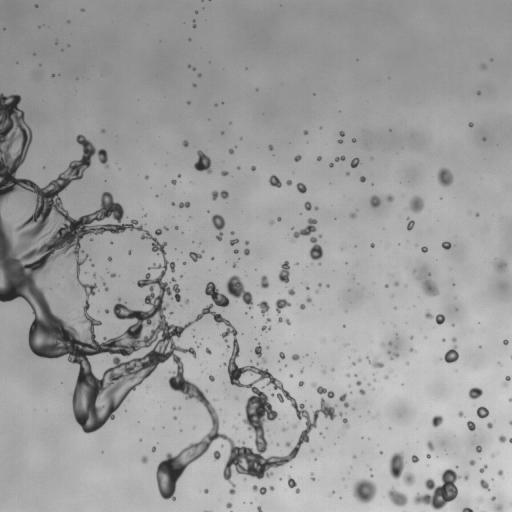droplet: (413, 469, 468, 510), (389, 452, 415, 485), (353, 479, 377, 503), (194, 150, 211, 173), (387, 487, 407, 506), (437, 168, 453, 186), (422, 279, 438, 296), (443, 345, 458, 363), (278, 261, 289, 283), (275, 299, 290, 314), (409, 196, 423, 212), (468, 387, 482, 399), (212, 190, 228, 200), (494, 259, 507, 271), (476, 406, 489, 418), (258, 301, 269, 315), (269, 175, 281, 187), (431, 415, 443, 427), (339, 393, 348, 407), (370, 195, 380, 207), (189, 252, 202, 261), (296, 182, 306, 193), (260, 275, 268, 288), (254, 344, 262, 357), (480, 479, 489, 490), (407, 218, 414, 230), (350, 158, 359, 167), (467, 421, 475, 431), (442, 241, 451, 249), (213, 450, 220, 460), (304, 201, 311, 210), (427, 441, 434, 450), (179, 202, 190, 207), (499, 435, 506, 442), (411, 455, 418, 462), (495, 504, 502, 511), (230, 239, 238, 245), (261, 325, 269, 331), (294, 155, 301, 161), (155, 229, 162, 235), (288, 288, 294, 295), (292, 354, 299, 360), (141, 456, 147, 463), (182, 140, 188, 146), (387, 195, 393, 201), (421, 246, 427, 252), (205, 348, 211, 354), (279, 352, 285, 358), (244, 248, 249, 255), (391, 353, 398, 358), (476, 445, 481, 452), (360, 176, 365, 182), (209, 375, 214, 381), (298, 381, 304, 386), (359, 389, 365, 394), (458, 411, 463, 417), (487, 422, 492, 428), (469, 460, 475, 465), (226, 502, 231, 508), (339, 131, 344, 136), (268, 145, 273, 150), (228, 149, 233, 154), (286, 180, 291, 185), (306, 297, 311, 302), (300, 304, 305, 309), (356, 380, 361, 385), (498, 470, 503, 475), (257, 506, 262, 511), (221, 171, 227, 175), (481, 64, 485, 69), (469, 122, 473, 127), (171, 180, 176, 184), (350, 213, 355, 217), (110, 273, 115, 277), (452, 337, 456, 342), (503, 340, 508, 344), (262, 358, 266, 363), (285, 442, 290, 446), (304, 130, 308, 134), (338, 139, 342, 143), (317, 156, 321, 160), (329, 163, 333, 167), (251, 166, 255, 170), (314, 206, 318, 210), (277, 217, 281, 221), (370, 243, 374, 247), (234, 249, 238, 253), (105, 309, 109, 313), (266, 318, 270, 322), (357, 358, 361, 362), (346, 373, 350, 377), (384, 375, 388, 379), (426, 454, 430, 458), (269, 486, 273, 490), (204, 489, 208, 493), (478, 497, 482, 501), (193, 22, 196, 27), (185, 299, 188, 304), (352, 138, 355, 142), (233, 262, 236, 266), (293, 424, 296, 428), (152, 447, 155, 451), (491, 497, 495, 500), (509, 438, 511, 443), (477, 91, 480, 94), (145, 175, 148, 178), (476, 213, 479, 216), (245, 241, 248, 244), (128, 251, 131, 254), (108, 257, 111, 260), (395, 282, 398, 285), (105, 287, 108, 290), (388, 341, 391, 344), (300, 369, 303, 372), (339, 412, 342, 415), (387, 351, 391, 353), (509, 420, 511, 424), (35, 4, 37, 7), (102, 129, 104, 132), (346, 172, 348, 175), (178, 174, 180, 177), (164, 227, 167, 229), (175, 226, 177, 229), (231, 231, 233, 234), (182, 262, 185, 264), (318, 284, 321, 286), (385, 284, 387, 287), (322, 370, 325, 372), (290, 374, 292, 377), (509, 398, 511, 401), (174, 416, 176, 419), (311, 449, 313, 452), (353, 455, 355, 458), (491, 454, 494, 456), (81, 9, 83, 11), (198, 74, 200, 76), (193, 84, 195, 86), (483, 138, 485, 140), (172, 202, 174, 204), (319, 235, 321, 237), (211, 257, 213, 259), (93, 274, 95, 276), (306, 287, 308, 289), (170, 312, 172, 314), (410, 349, 412, 351), (498, 362, 500, 364), (271, 393, 273, 395), (283, 428, 285, 430), (380, 451, 382, 453)
ligament: (0, 94, 335, 498), (226, 275, 253, 308), (293, 218, 316, 237), (211, 214, 225, 240), (311, 383, 334, 398), (309, 237, 322, 260), (425, 312, 445, 324), (367, 357, 383, 368), (288, 476, 299, 492), (252, 485, 266, 494), (278, 317, 290, 324), (503, 376, 510, 386), (342, 417, 348, 428), (479, 465, 487, 472), (335, 156, 345, 161), (462, 507, 473, 511), (311, 474, 315, 480)
